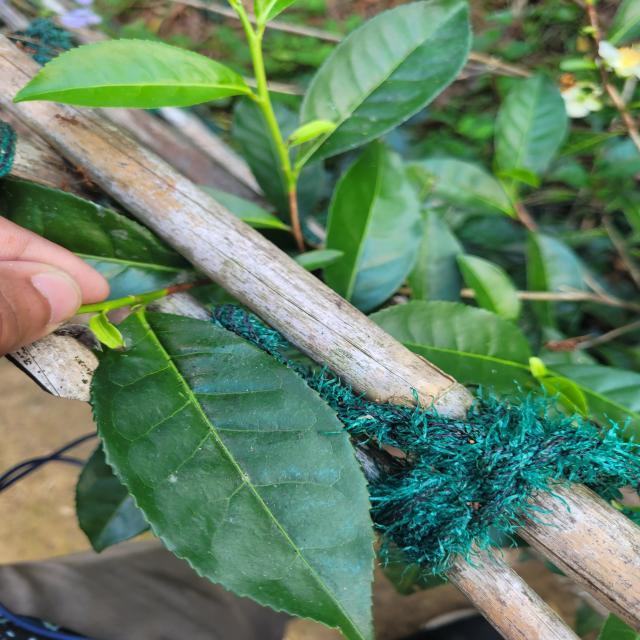Category D(7+ days, Not for Tea): (64, 278, 392, 640)
